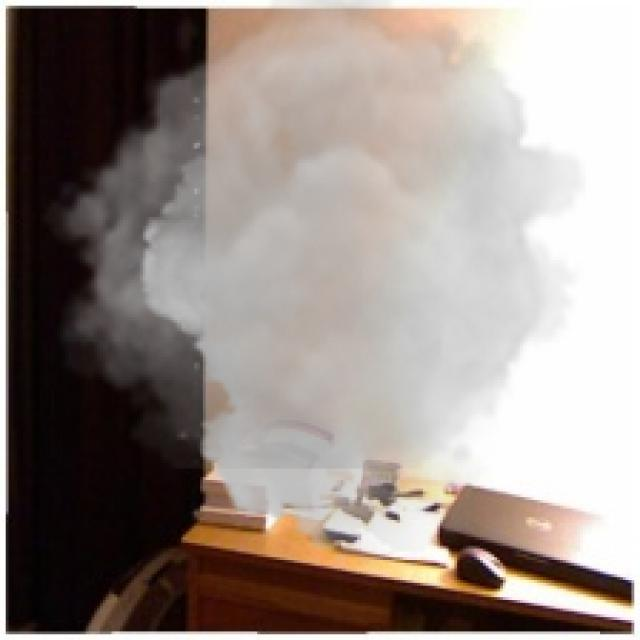smoke: (40, 0, 586, 563)
